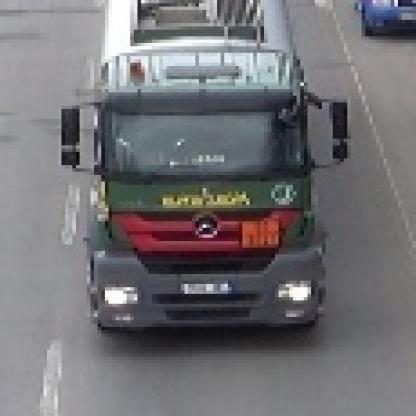truck: (55, 1, 348, 334)
